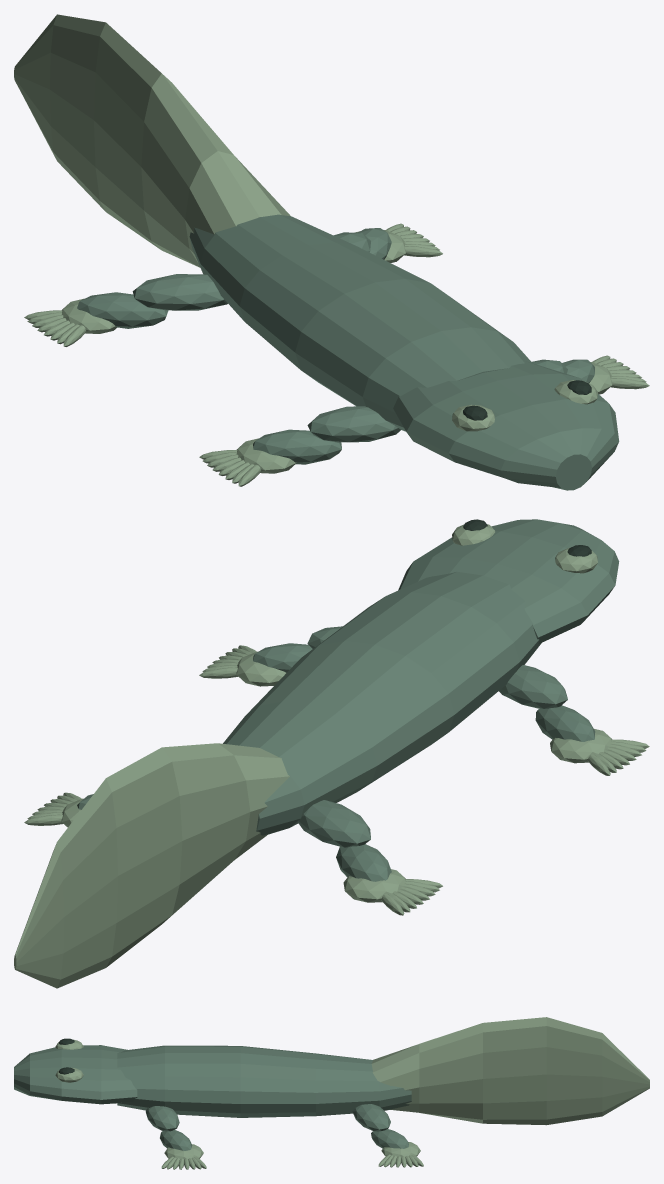
3 views of the same model, one above another, from view 1: azimuth 30°, elevation 25°; view 2: azimuth 150°, elevation 25°; view 3: azimuth 270°, elevation 25° (orthographic). The views are drawn at different scales.
Parts seen in each view (by area): view 1: surface_river_olive, surface_tail_and_paddle; view 2: surface_river_olive, surface_tail_and_paddle; view 3: surface_river_olive, surface_tail_and_paddle.
Boxes of the visible parts, box(x1,y1,x2,y2) form: surface_river_olive: box(77, 214, 619, 490); surface_tail_and_paddle: box(14, 14, 649, 486); surface_river_olive: box(77, 519, 619, 881); surface_tail_and_paddle: box(14, 524, 649, 988); surface_river_olive: box(14, 1045, 411, 1150); surface_tail_and_paddle: box(55, 1017, 649, 1169).
Bounding box in the file's own units: 0.3457 × 0.15 × 0.8.
